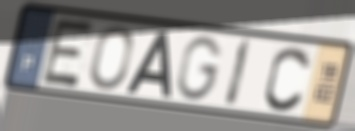A: (123, 28, 173, 100)
C: (263, 44, 314, 115)
E: (38, 16, 98, 91)
G: (174, 34, 225, 103)
I: (222, 36, 255, 111)
O: (87, 24, 135, 93)
